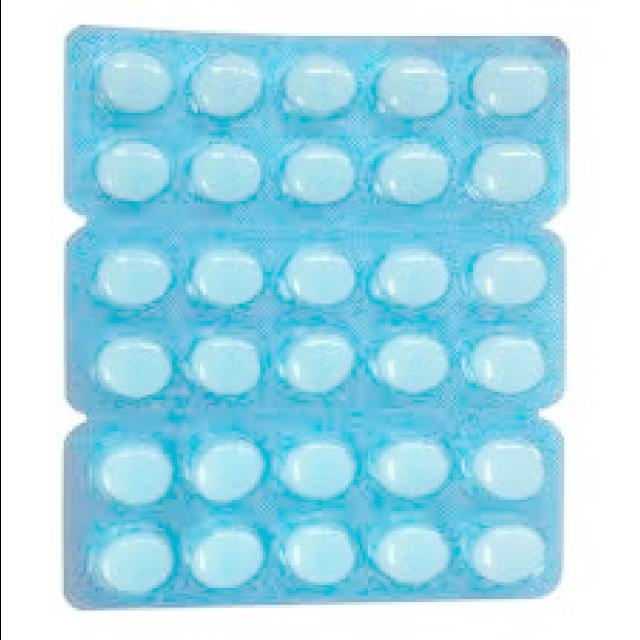authentic: (46, 18, 580, 622)
